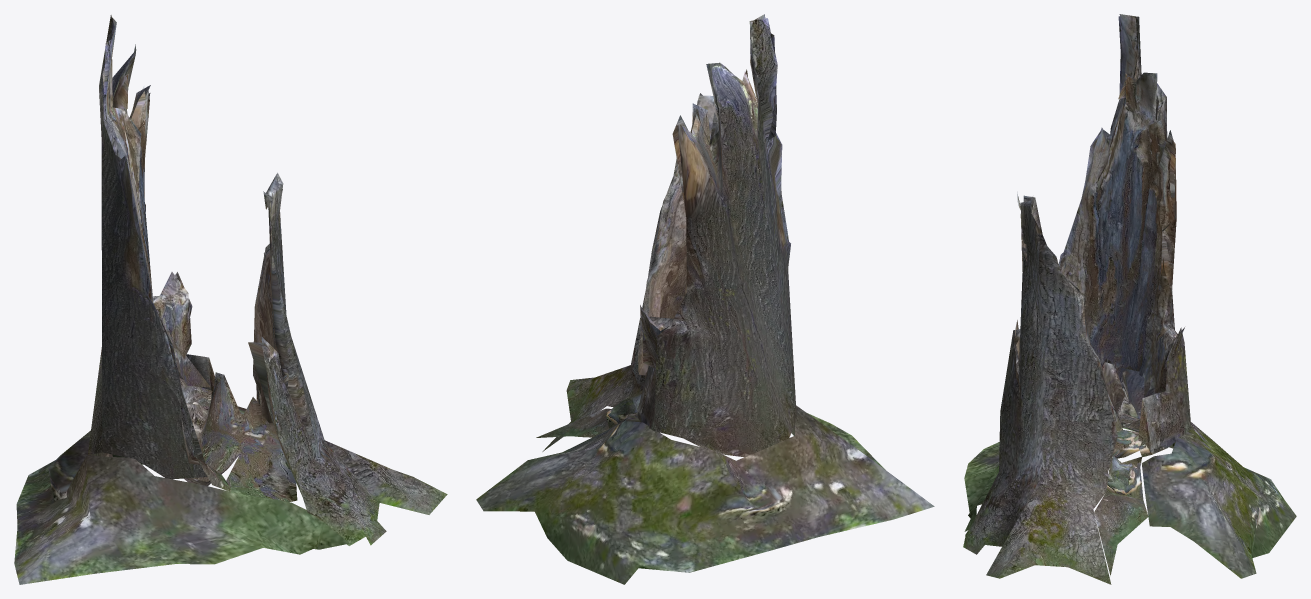
Rendered from arvore_rachada_lod.gltf.
3 views of the same model, side by side, from view 1: azimuth 30°, elevation 25°; view 2: azimuth 150°, elevation 25°; view 3: azimuth 270°, elevation 25° (orthographic). The views are drawn at different scales.
Parts seen in each view (by area): view 1: arvore_rachada_lod; view 2: arvore_rachada_lod; view 3: arvore_rachada_lod.
Boxes of the visible parts, bbox=[...] form: arvore_rachada_lod: bbox=[14, 15, 447, 584]; arvore_rachada_lod: bbox=[476, 14, 934, 584]; arvore_rachada_lod: bbox=[963, 14, 1296, 584].
Size of the model in its own units: 5.55 by 7.01 by 4.37.
Materials: 1 (1 with a texture image).
